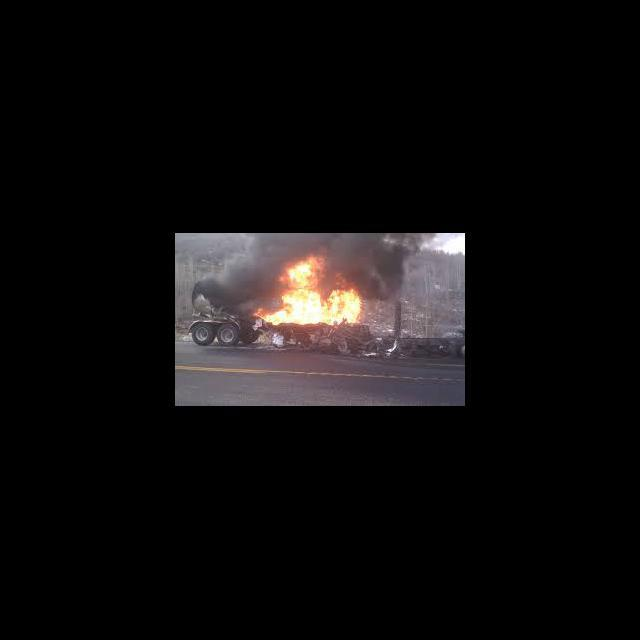Fire: (261, 258, 367, 324)
Smoke: (198, 237, 258, 321), (368, 236, 404, 304), (260, 234, 366, 256)
